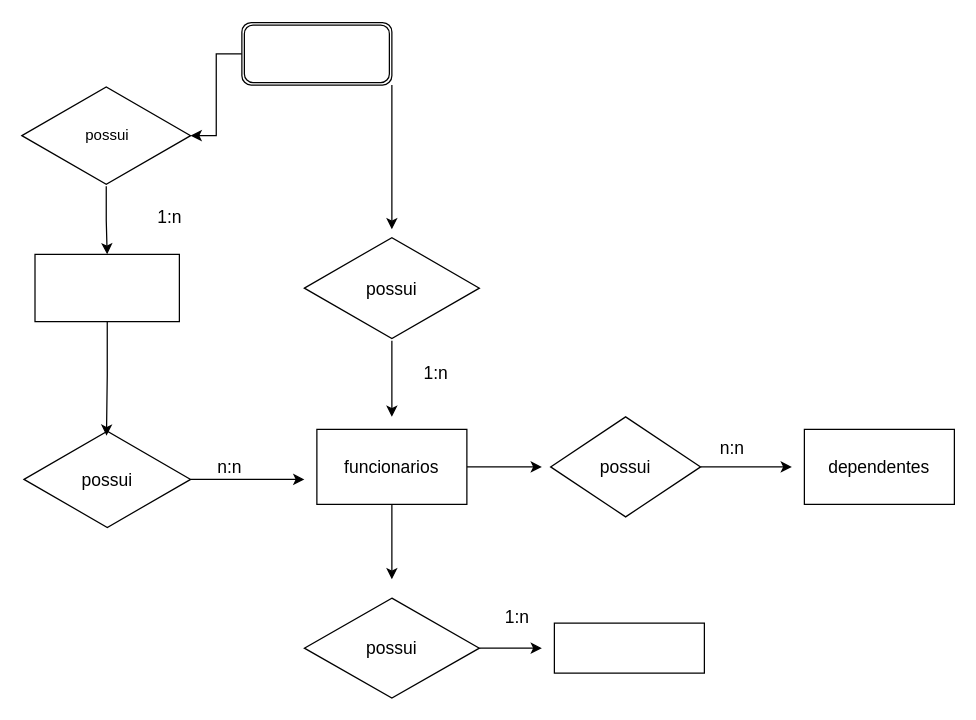
Some shapes in this 976 by 720 pixel diagram are drawn without their labels. Each missing label, with the centre of its shape:
cargos: point 106,287
empresa: point 316,53
salario: point 628,647
